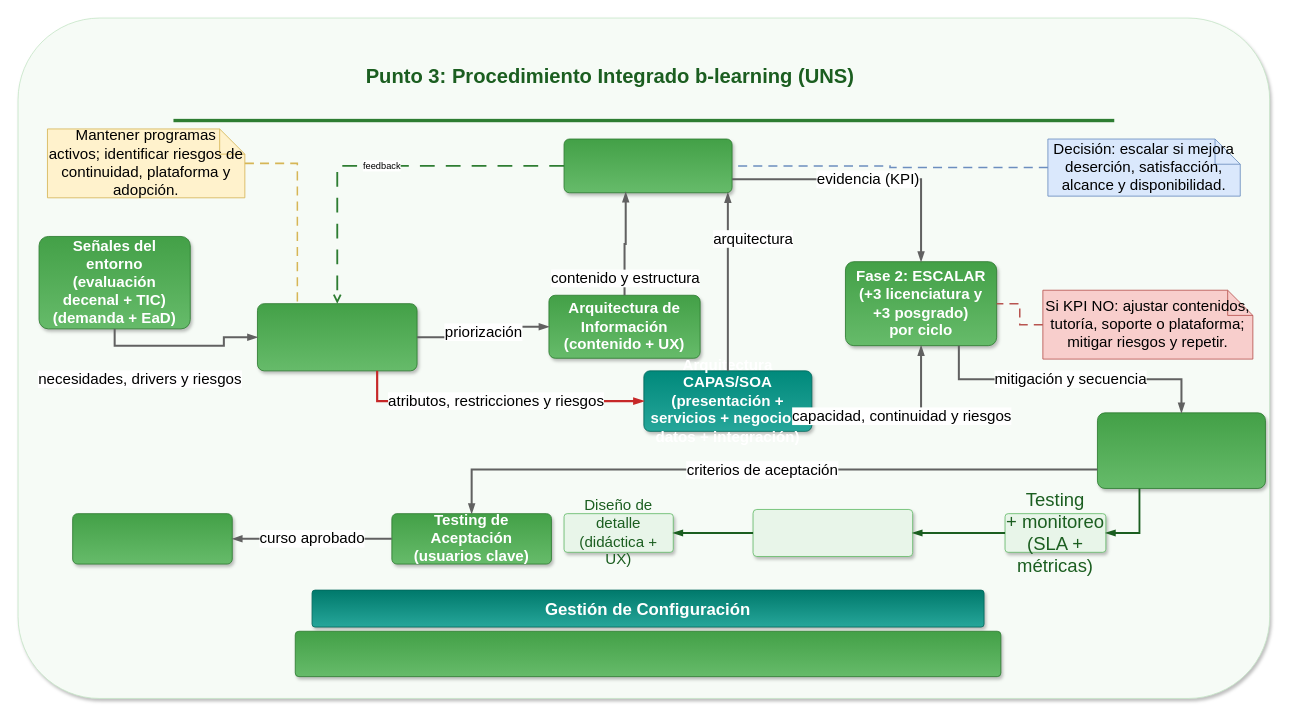
Image size: 1289x719. Some labels were removed from this diagram. The centre of each missing label's shape, as x and y in pixels:
"Análisis de Requerimientos (RF + calidad + riesgos)" belongs at [337,338].
"Aseguramiento de la Calidad" belongs at [648,654].
"Configuración / Integración (SCORM + reportes)" belongs at [833,533].
"Fase 1: PROBAR (piloto 1 cohorte) (1–2 programas)" belongs at [648,167].
"Fase 3: INTEGRAR (gobierno + soporte) (procesos + marketing)" belongs at [1181,451].
"Implantación y operación continua (sin interrupción)" belongs at [152,539].
